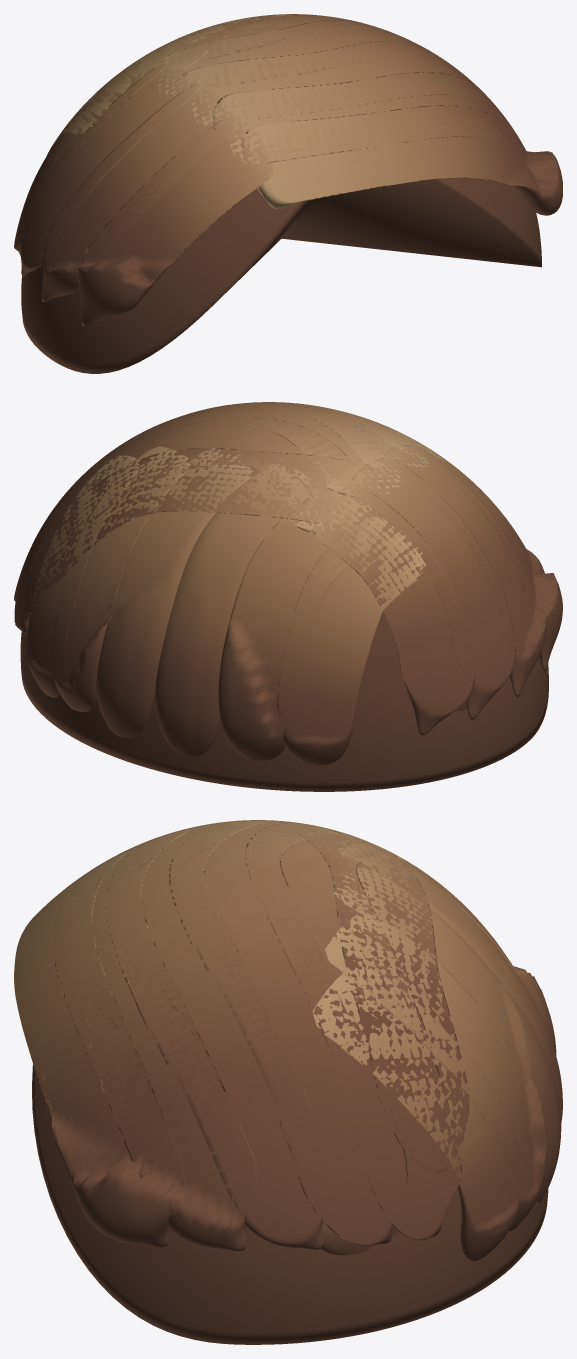
File: Masculine-sidepart-cap258-hair-ombre.glb
3 views of the same model, one above another, from view 1: azimuth 30°, elevation 25°; view 2: azimuth 150°, elevation 25°; view 3: azimuth 270°, elevation 25° (orthographic). The views are drawn at different scales.
Visible parts, largest first — view 1: 226 hair / Hair258 / sculpted side sweep 1, 226 hair / Hair258 / recessed roots, 226 hair / Hair258 / sculpted side sweep 0, 226 hair / Hair258 / sculpted side sweep 2; view 2: 226 hair / Hair258 / sculpted side sweep 0, 226 hair / Hair258 / sculpted side sweep 1, 226 hair / Hair258 / sculpted side sweep 2, 226 hair / Hair258 / recessed roots; view 3: 226 hair / Hair258 / sculpted side sweep 1, 226 hair / Hair258 / sculpted side sweep 0, 226 hair / Hair258 / sculpted side sweep 2, 226 hair / Hair258 / recessed roots.
Boxes of the visible parts, x1,y1,x2,y2 form: 226 hair / Hair258 / sculpted side sweep 1: (14,20,562,325); 226 hair / Hair258 / recessed roots: (21,178,541,373); 226 hair / Hair258 / sculpted side sweep 0: (41,14,533,301); 226 hair / Hair258 / sculpted side sweep 2: (20,14,502,276); 226 hair / Hair258 / sculpted side sweep 0: (14,402,546,761); 226 hair / Hair258 / sculpted side sweep 1: (14,403,562,756); 226 hair / Hair258 / sculpted side sweep 2: (32,402,515,765); 226 hair / Hair258 / recessed roots: (20,613,548,791); 226 hair / Hair258 / sculpted side sweep 1: (14,820,562,1260); 226 hair / Hair258 / sculpted side sweep 0: (52,820,556,1255); 226 hair / Hair258 / sculpted side sweep 2: (104,820,561,1249); 226 hair / Hair258 / recessed roots: (32,1064,548,1344).
Size of the model in its own units: 0.972 by 0.5085 by 0.7432.
